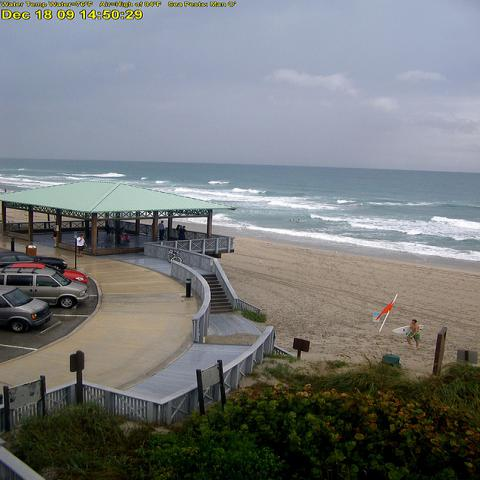car: (0, 268, 90, 309), (7, 264, 90, 284), (0, 251, 68, 269)
truck: (0, 284, 54, 334)
